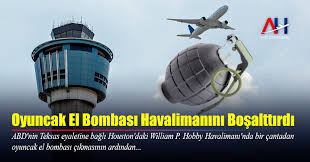e1: (159, 35, 252, 116)
